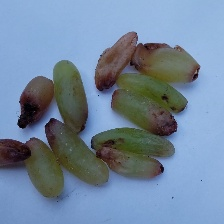grapes: (57, 33, 207, 224)
